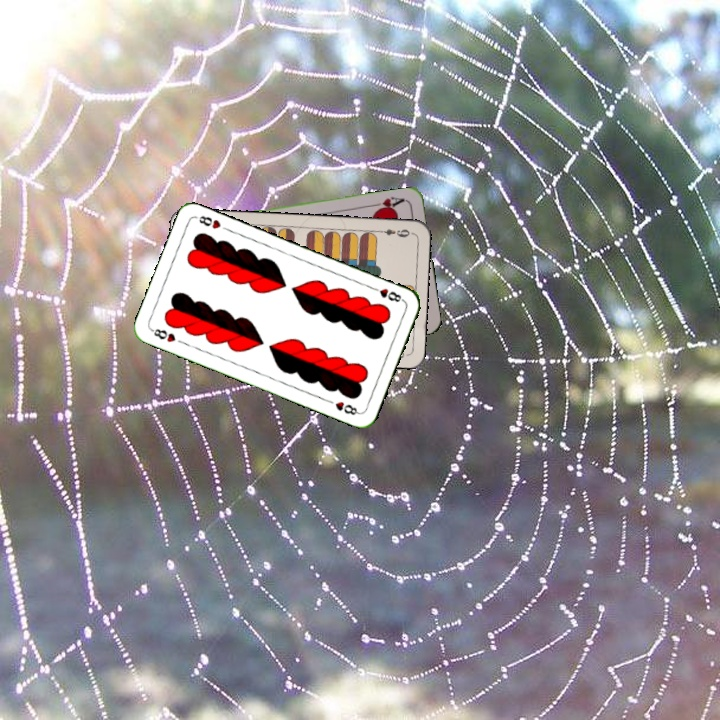E9: (374, 225, 412, 240)
H8: (367, 283, 406, 305), (147, 324, 178, 345)
HA: (368, 192, 409, 215)
